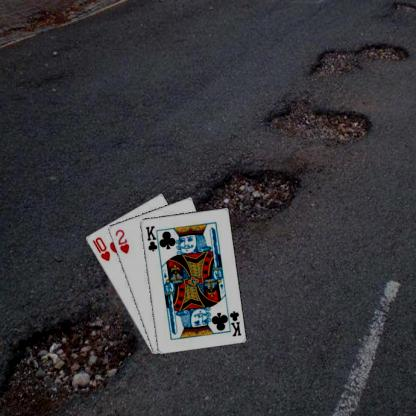10H: (89, 235, 111, 262)
2H: (113, 227, 130, 255)
KC: (143, 223, 161, 254), (224, 306, 242, 337)
